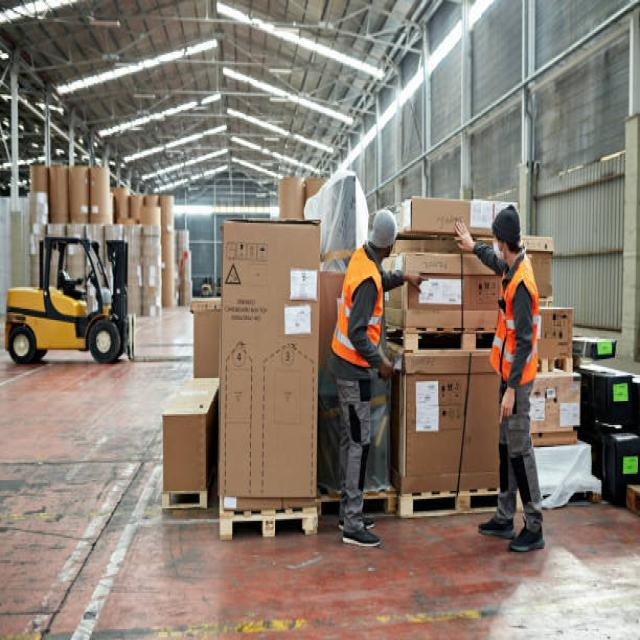Wooden-Pallets: (222, 505, 318, 546), (400, 485, 495, 520)
